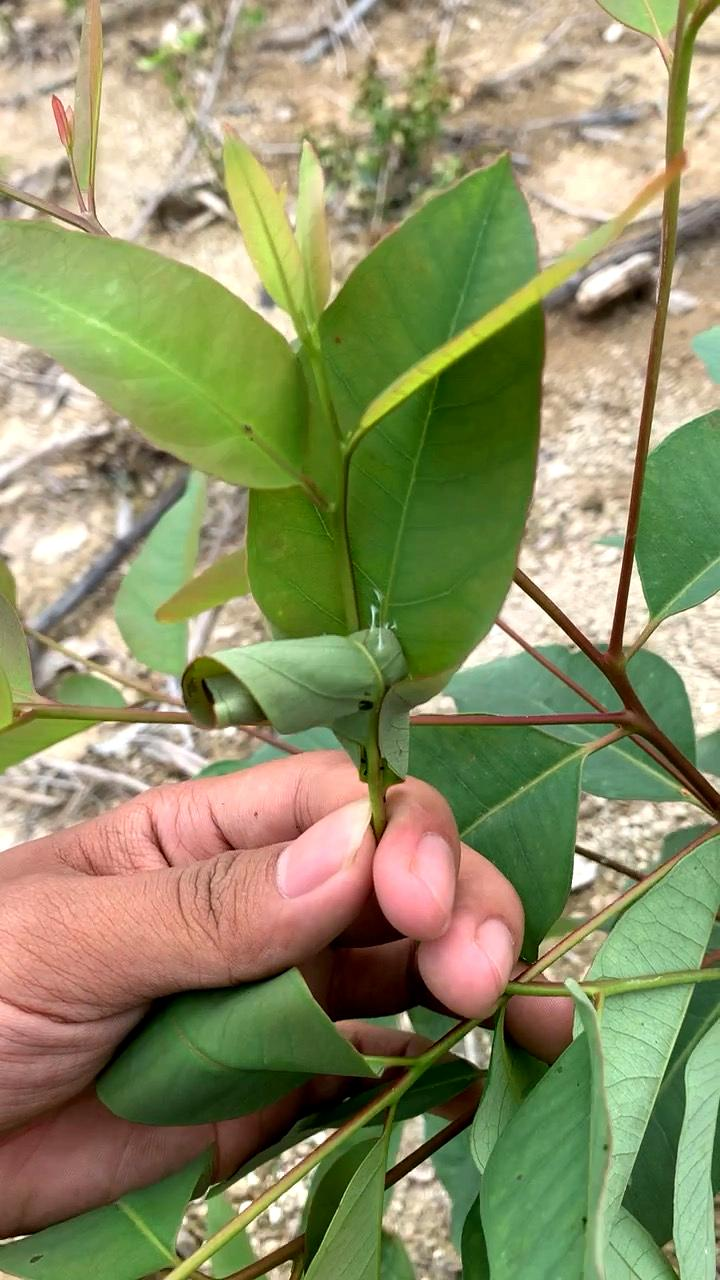Leaf Roller - Leaf: (138, 588, 441, 748)
